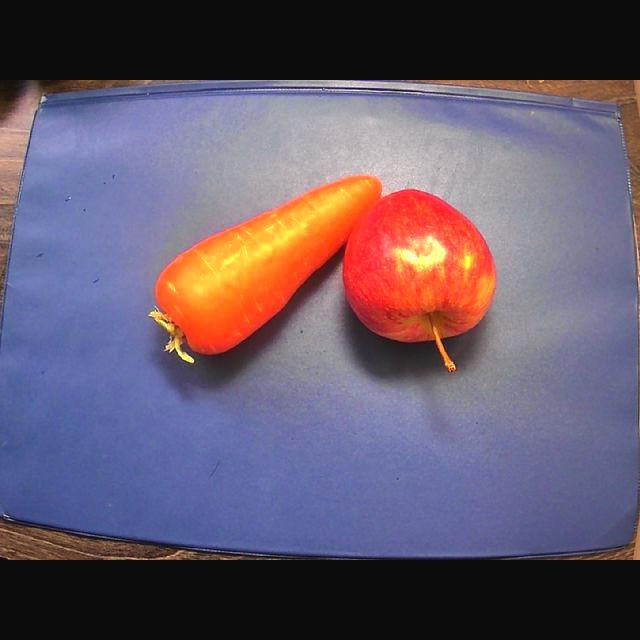manzana: (344, 189, 496, 371)
zanahoria: (149, 175, 381, 362)
